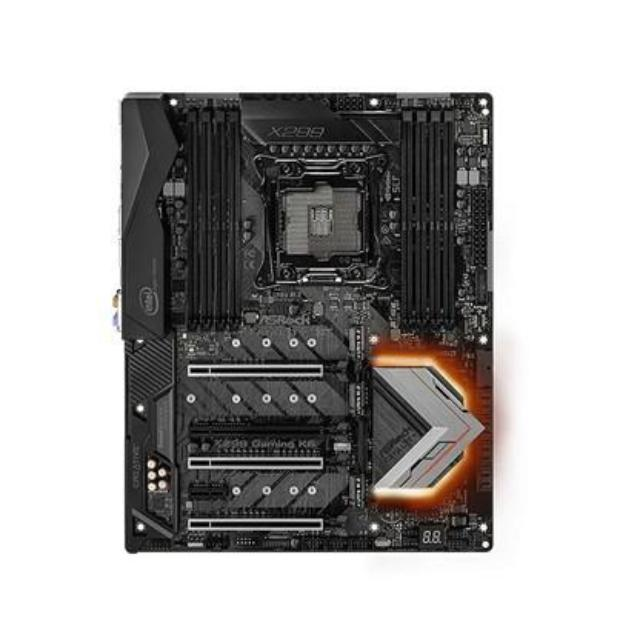Mainboard: (110, 83, 501, 565)
